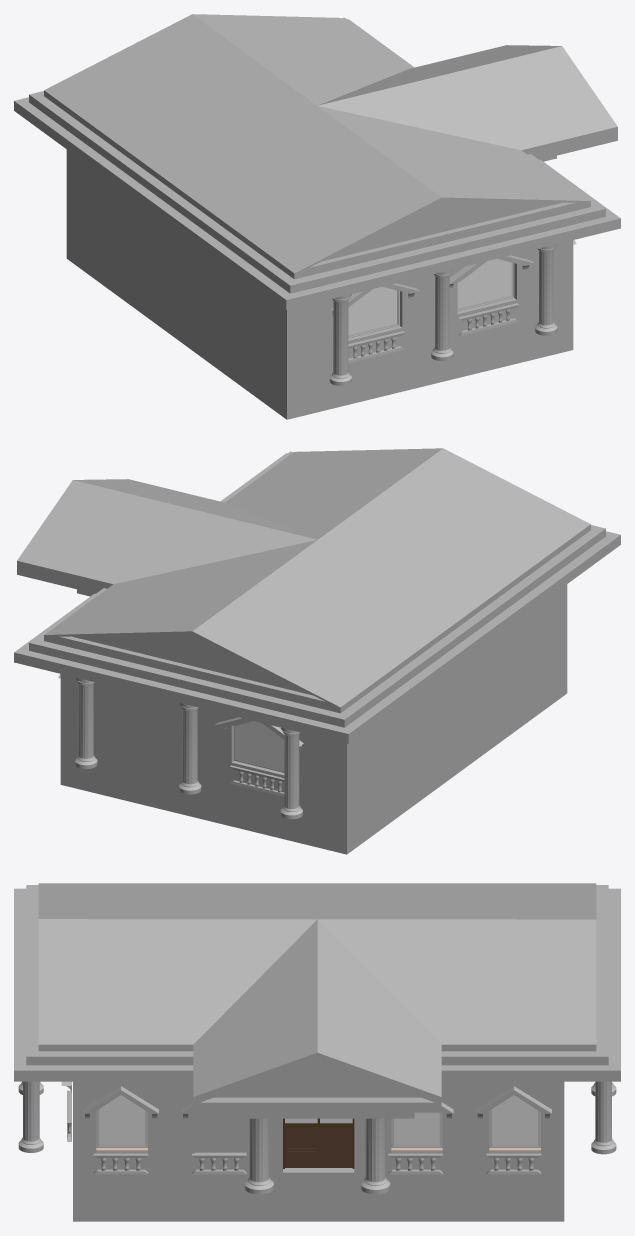
File: Museum v1.2.fbx
3 views of the same model, one above another, from view 1: azimuth 30°, elevation 25°; view 2: azimuth 150°, elevation 25°; view 3: azimuth 270°, elevation 25° (orthographic). The views are drawn at different scales.
Visible parts, largest first — view 1: Rooftop, Outer Wall, Side Columns, Window 6, Window 7, Rails 6, Rails 5, Window Roof 6; view 2: Rooftop, Outer Wall, Side Columns 1, Window, Rails 4; view 3: Rooftop, Outer Wall, Window 1, Window 5, Window 3, Front Column, Front Column 1, Door, Side Columns 1, Side Columns, Door 1, Rails (+6 smaller).
Part boxes in pixels (x1,y1,x2,y2): Rooftop: (14, 14, 620, 309); Outer Wall: (66, 149, 573, 419); Side Columns: (329, 244, 557, 385); Window 6: (457, 258, 514, 311); Window 7: (348, 286, 399, 338); Rails 6: (458, 303, 519, 336); Rails 5: (348, 331, 404, 363); Window Roof 6: (449, 255, 534, 287); Rooftop: (14, 448, 620, 743); Outer Wall: (60, 584, 567, 854); Side Columns 1: (75, 677, 302, 819); Window: (234, 720, 284, 772); Rails 4: (230, 765, 284, 796); Rooftop: (14, 883, 620, 1118); Outer Wall: (73, 1081, 564, 1221); Window 1: (489, 1095, 540, 1153); Window 5: (96, 1095, 147, 1153); Window 3: (391, 1112, 442, 1153); Front Column: (361, 1118, 390, 1194); Front Column 1: (244, 1118, 273, 1194); Door: (318, 1127, 352, 1167); Side Columns 1: (591, 1081, 616, 1154); Side Columns: (18, 1081, 43, 1152); Door 1: (285, 1127, 318, 1167); Rails: (486, 1153, 541, 1174).
Bounding box in the file's own units: 2159 × 1000 × 2472.
